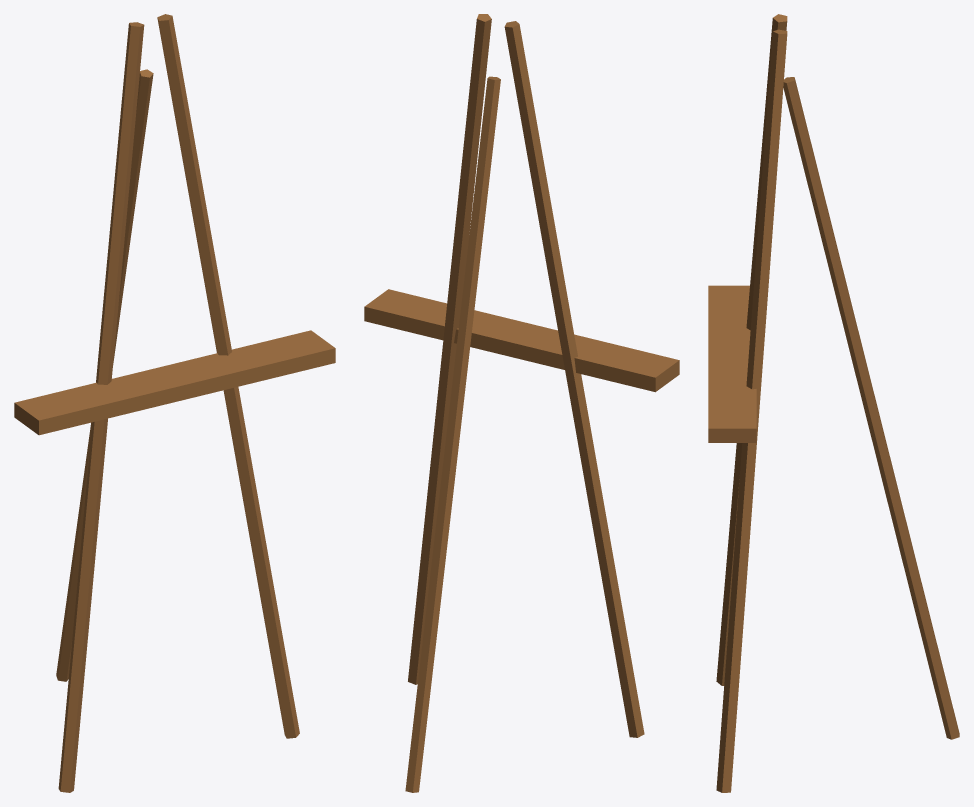
Rendered from Easel.obj.
3 renders of one model, left to right at view 1: azimuth 30°, elevation 25°; view 2: azimuth 150°, elevation 25°; view 3: azimuth 270°, elevation 25°, orthographic.
Visible parts, largest first — view 1: Easel; view 2: Easel; view 3: Easel.
Boxes of the visible parts, x1,y1,x2,y2 form: Easel: [14, 14, 335, 792]; Easel: [364, 14, 679, 792]; Easel: [708, 14, 959, 792].
Size of the model in its own units: 0.84 by 1.96 by 0.6242.
1 material, 1 textured.
